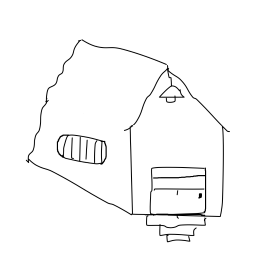closed_window: (54, 125, 115, 167)
door: (145, 160, 216, 219)
single_line_roof: (36, 32, 236, 135)
wall: (125, 71, 237, 222)
